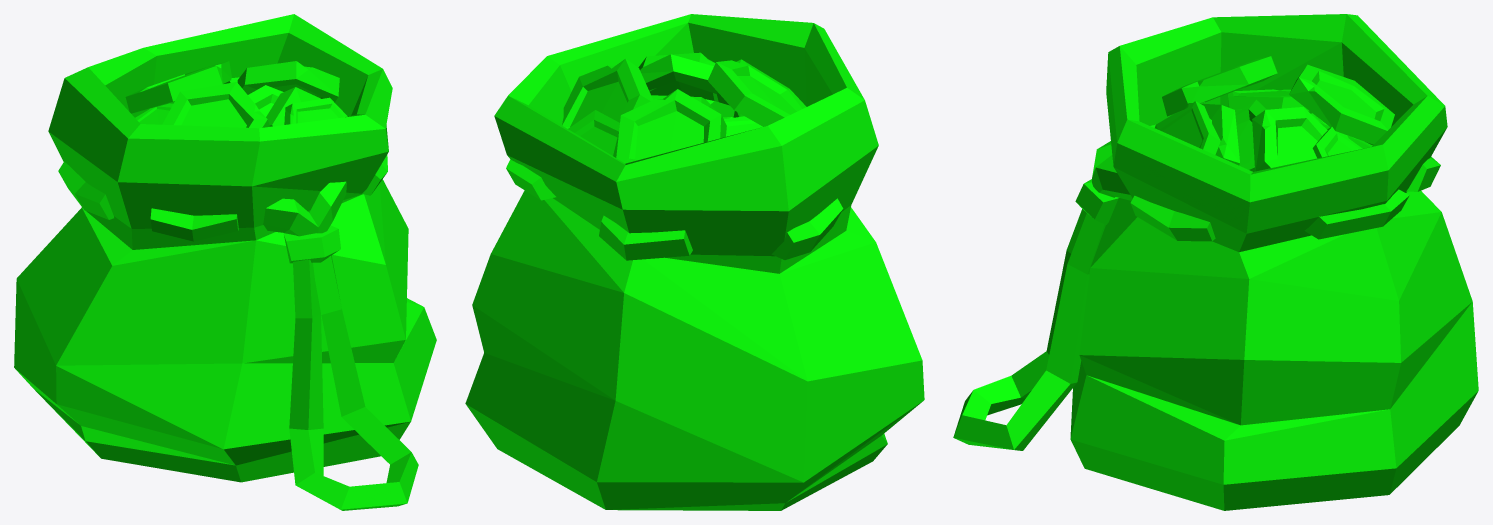
File: SM_Pouch_Money_Small_Standing_Opened_Fantasy.fbx
The picture shows the model from 3 angles, left to right: view 1: azimuth 30°, elevation 25°; view 2: azimuth 150°, elevation 25°; view 3: azimuth 270°, elevation 25°; orthographic projection. The views are drawn at different scales.
Parts seen in each view (by area): view 1: pouch-money-small-standing-opened-fantasy; view 2: pouch-money-small-standing-opened-fantasy; view 3: pouch-money-small-standing-opened-fantasy.
Part boxes in pixels (x1,y1,x2,y2): pouch-money-small-standing-opened-fantasy: [14, 14, 436, 510]; pouch-money-small-standing-opened-fantasy: [465, 14, 924, 510]; pouch-money-small-standing-opened-fantasy: [953, 14, 1478, 510].
Bounding box in the file's own units: 0.1841 × 0.159 × 0.2081.
